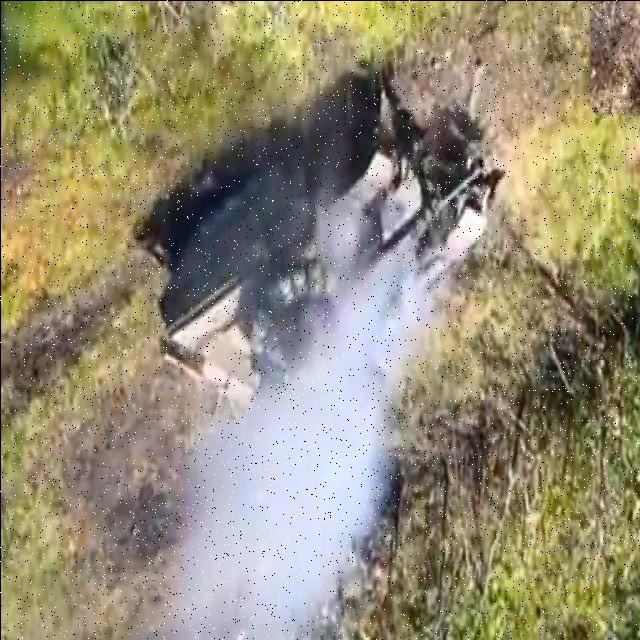TANK: (155, 67, 494, 431)
